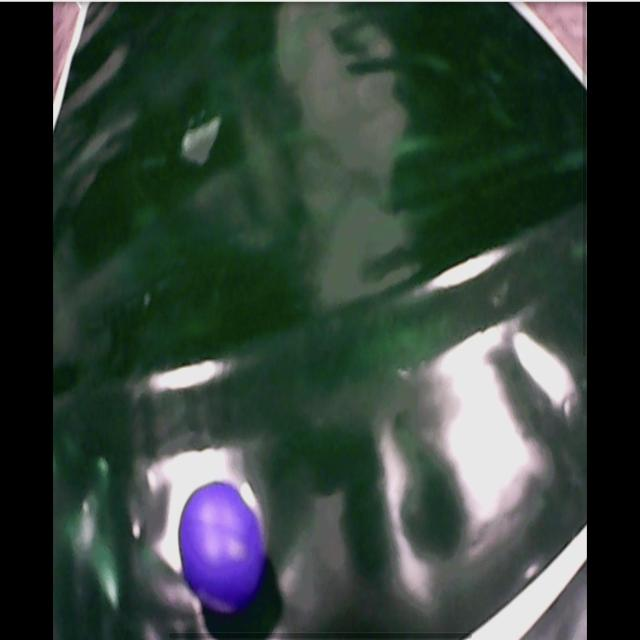ball: (179, 480, 267, 614)
